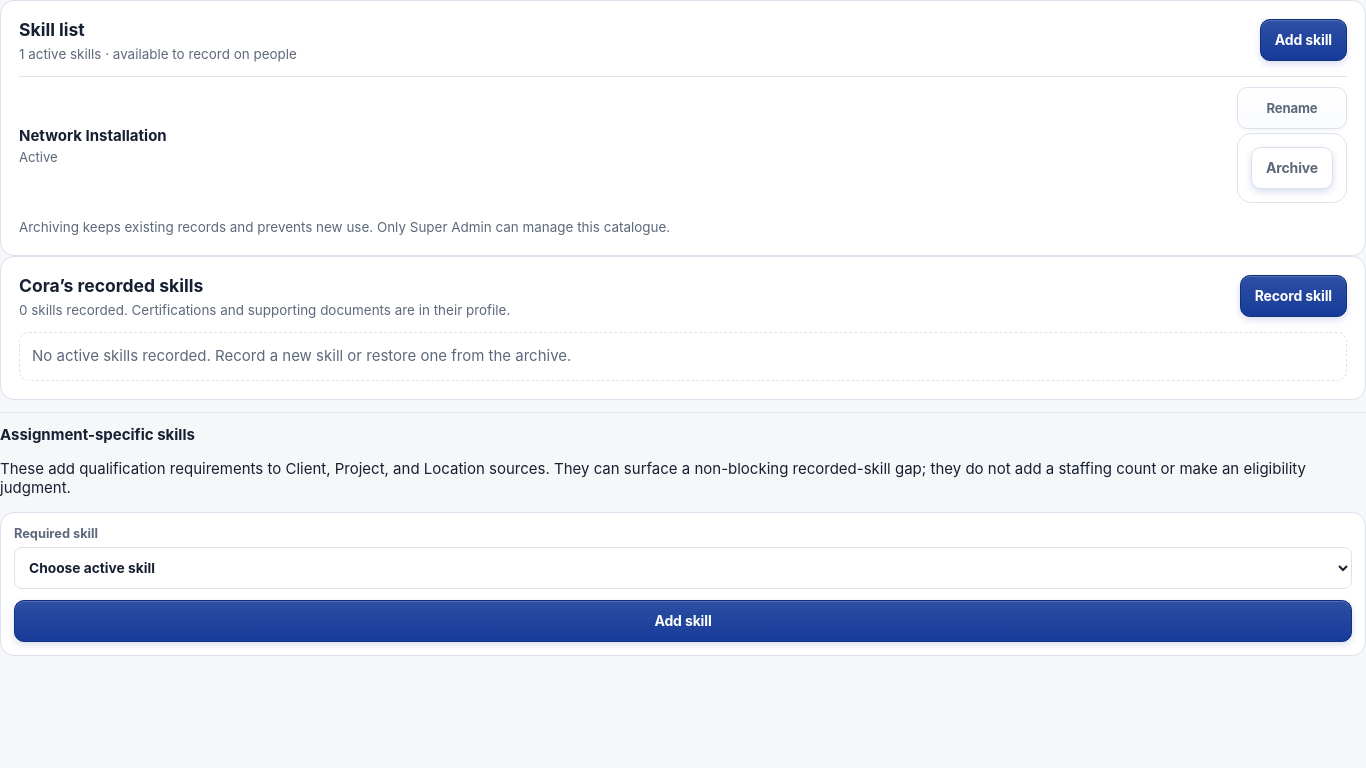
Test: Phase 6 capability forms › renders controlled catalogue, recorded-skill, and assignment-requirement controls
The image size is (1366, 768).
Expected: the heading "Skill list" is shown, [19,19,85,40]
Step 1. Click the button "Add skill" in the row of "Skill list" → (1303, 40), box [1260,19,1347,61]
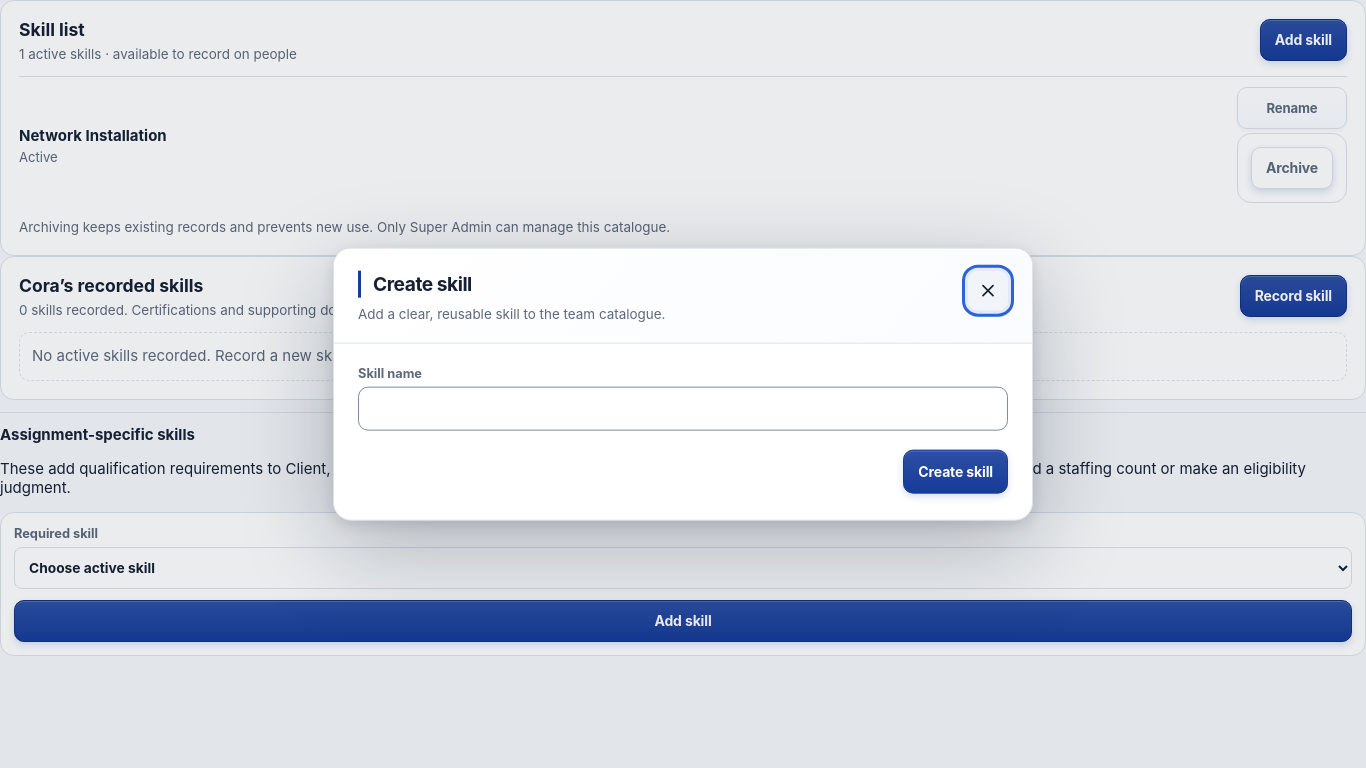
Expected: the field labelled "Skill name" is shown, [358,386,1008,430]
Step 2. Click the button named "Close" → (988, 291), box [968,271,1008,311]
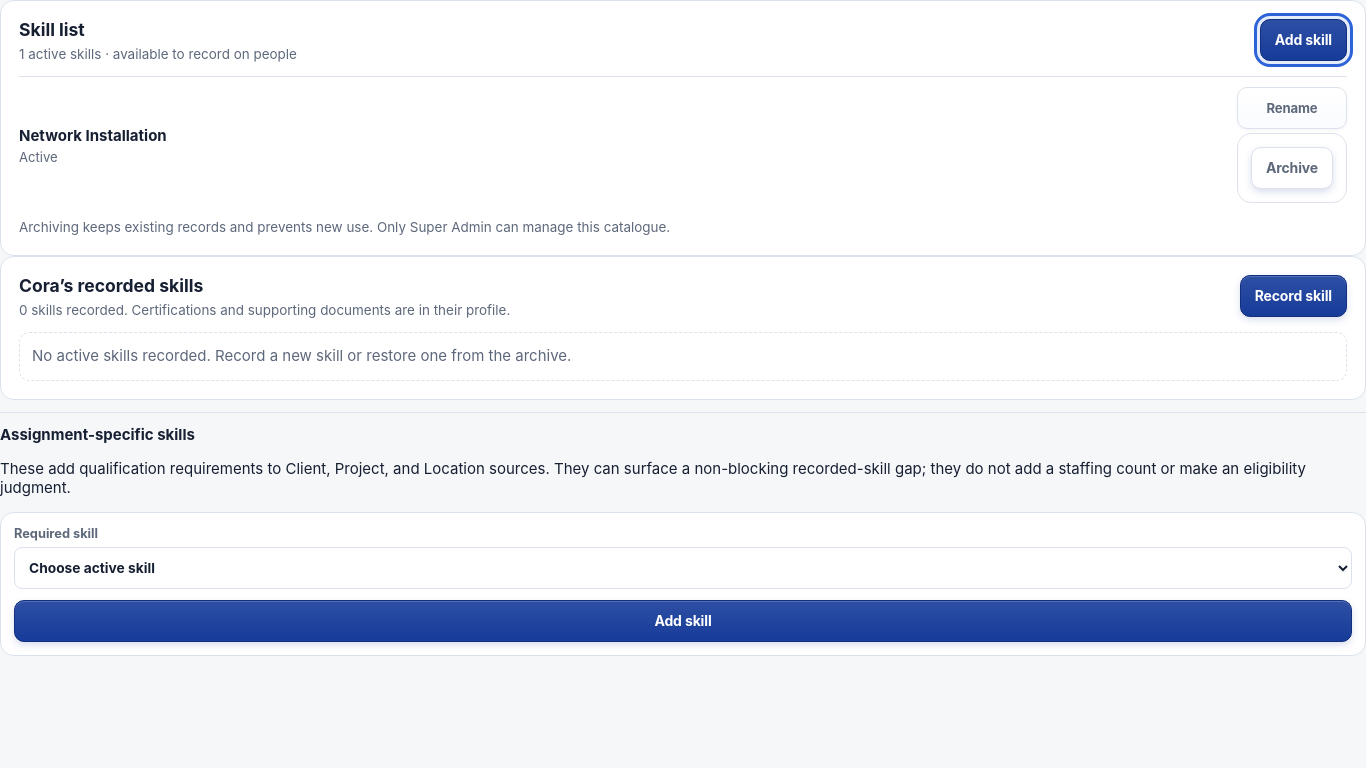
Expected: the heading "Cora’s recorded skills" is shown, [19,275,203,296]
Step 3. Click the button with aria-label "Record a skill for Cora" → (1293, 296), box [1240,275,1347,317]
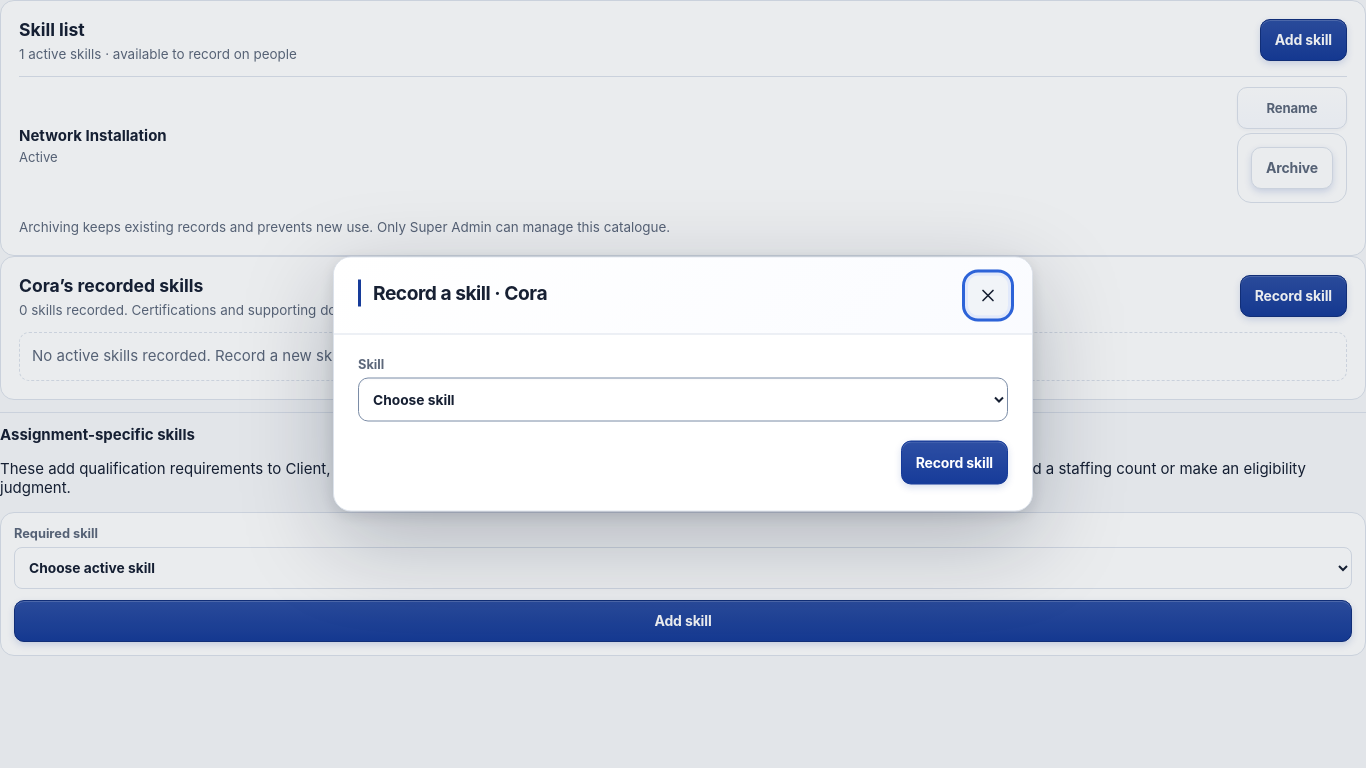
Expected: the form named "employeeUserId" holds "cora", [358,356,1008,484]
Step 4. Click the button named "Close" → (988, 296), box [968,276,1008,316]
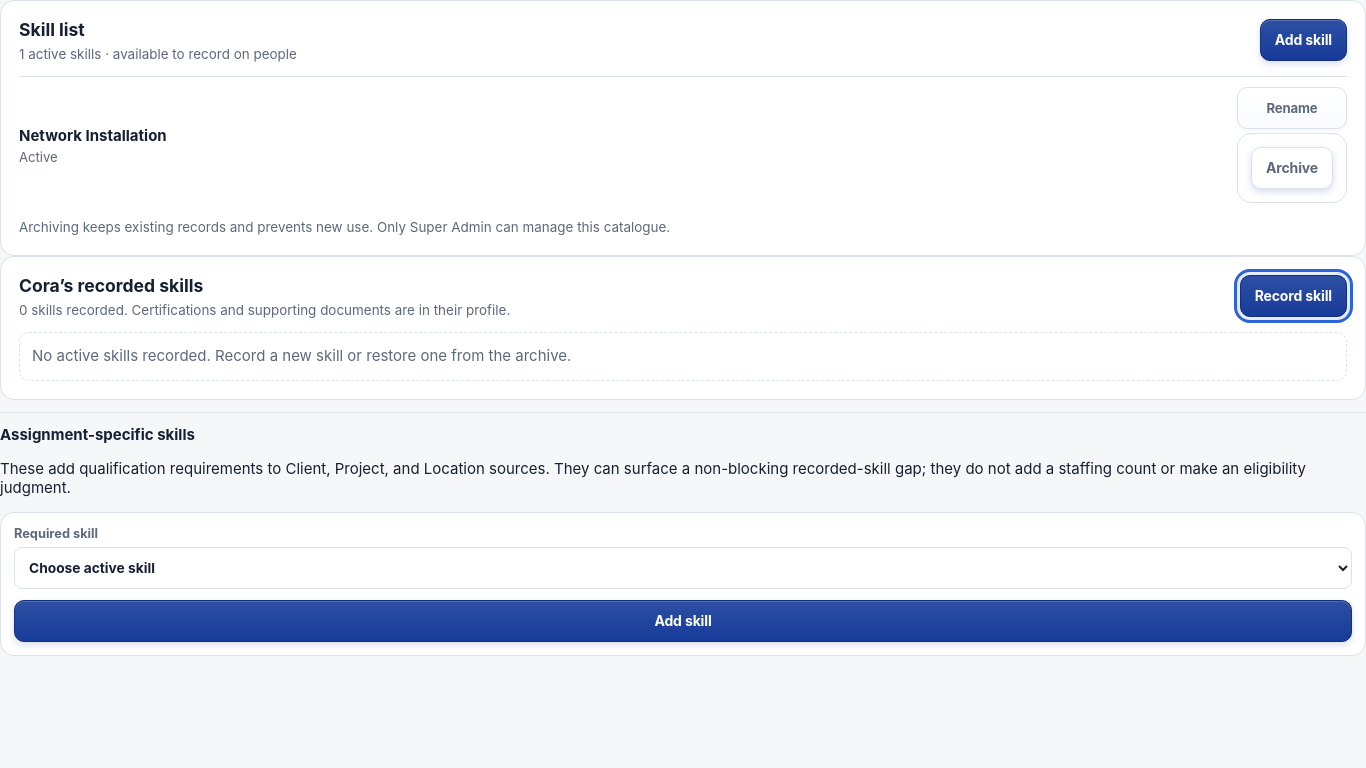
Expected: the heading "Assignment-specific skills" is shown, [0,425,195,444]
Expected: the number of dropdowns labelled "Required skill" is 1, [14,547,1352,589]
